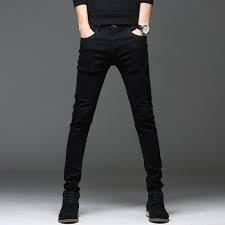pants: (63, 22, 165, 191)
